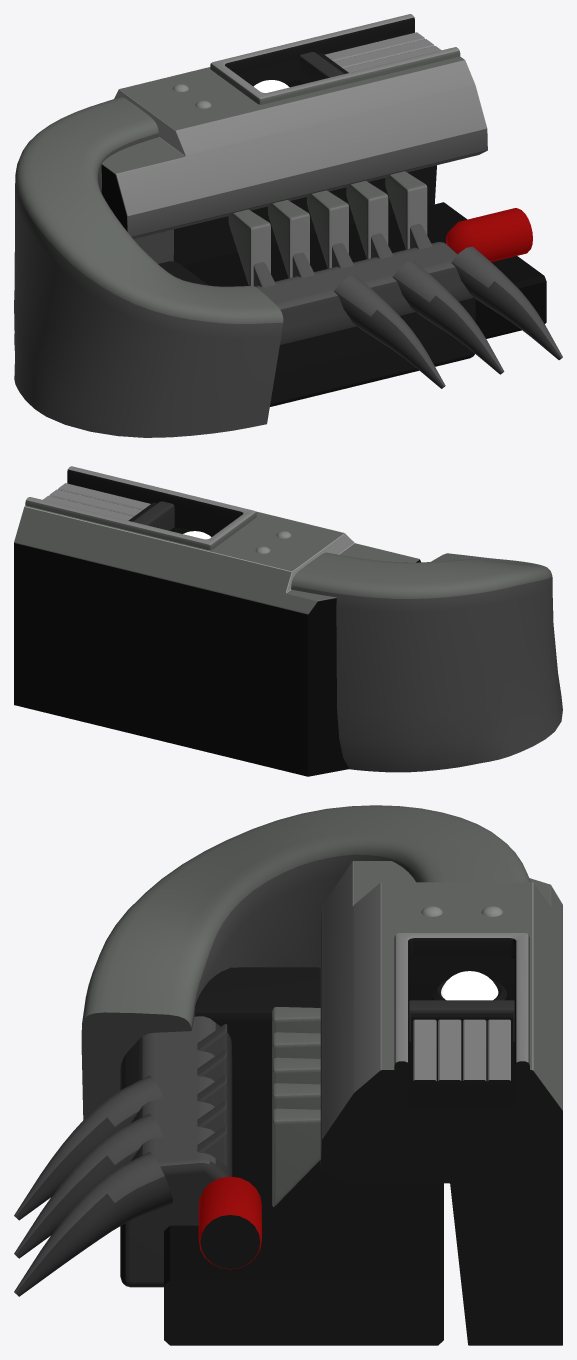
File: jaw_gun_a_left.glb
The picture shows the model from 3 angles, top to bottom: view 1: azimuth 30°, elevation 25°; view 2: azimuth 150°, elevation 25°; view 3: azimuth 270°, elevation 25°; orthographic projection. The views are drawn at different scales.
Parts seen in each view (by area): view 1: hinge.001, upper_jaw.001, lower_jaw.001, mouth_floor.001, bezel.001, fang2.001, fang1.001, fang0.001, throat_lamp.001, upper_tooth3.001, upper_tooth4.001, upper_tooth0.001 (+6 smaller); view 2: upper_jaw.001, hinge.001, bezel.001, divider.001, slat0.001, slat1.001, slat2.001; view 3: upper_jaw.001, hinge.001, mouth_floor.001, lower_jaw.001, cheek.001, fang2.001, bezel.001, throat_lamp.001, fang0.001, fang1.001, upper_tooth4.001, divider.001 (+11 smaller).
Part boxes in pixels (<box>): hinge.001: <box>14,97,283,437</box>; upper_jaw.001: <box>101,23,487,265</box>; lower_jaw.001: <box>255,242,475,406</box>; mouth_floor.001: <box>183,202,546,338</box>; bezel.001: <box>210,14,460,104</box>; fang2.001: <box>451,246,562,359</box>; fang1.001: <box>392,261,504,374</box>; fang0.001: <box>334,275,445,388</box>; throat_lamp.001: <box>446,208,532,261</box>; upper_tooth3.001: <box>346,181,388,258</box>; upper_tooth4.001: <box>385,171,427,249</box>; upper_tooth0.001: <box>228,209,270,285</box>; upper_jaw.001: <box>14,475,420,776</box>; hinge.001: <box>291,552,562,772</box>; bezel.001: <box>25,466,256,550</box>; divider.001: <box>133,501,174,530</box>; slat0.001: <box>58,483,150,510</box>; slat1.001: <box>49,489,141,516</box>; slat2.001: <box>43,495,133,520</box>; upper_jaw.001: <box>320,861,562,1345</box>; hinge.001: <box>81,805,530,1119</box>; mouth_floor.001: <box>164,1079,443,1345</box>; lower_jaw.001: <box>120,1016,232,1287</box>; cheek.001: <box>194,967,320,1079</box>; fang2.001: <box>14,1152,172,1296</box>; bezel.001: <box>394,933,529,1083</box>; throat_lamp.001: <box>198,1176,261,1269</box>; fang0.001: <box>14,1075,164,1220</box>; fang1.001: <box>14,1113,164,1258</box>; upper_tooth4.001: <box>272,1108,320,1206</box>; divider.001: <box>409,1000,514,1041</box>.
Size of the model in its own units: 23.94 by 10.42 by 18.24.
